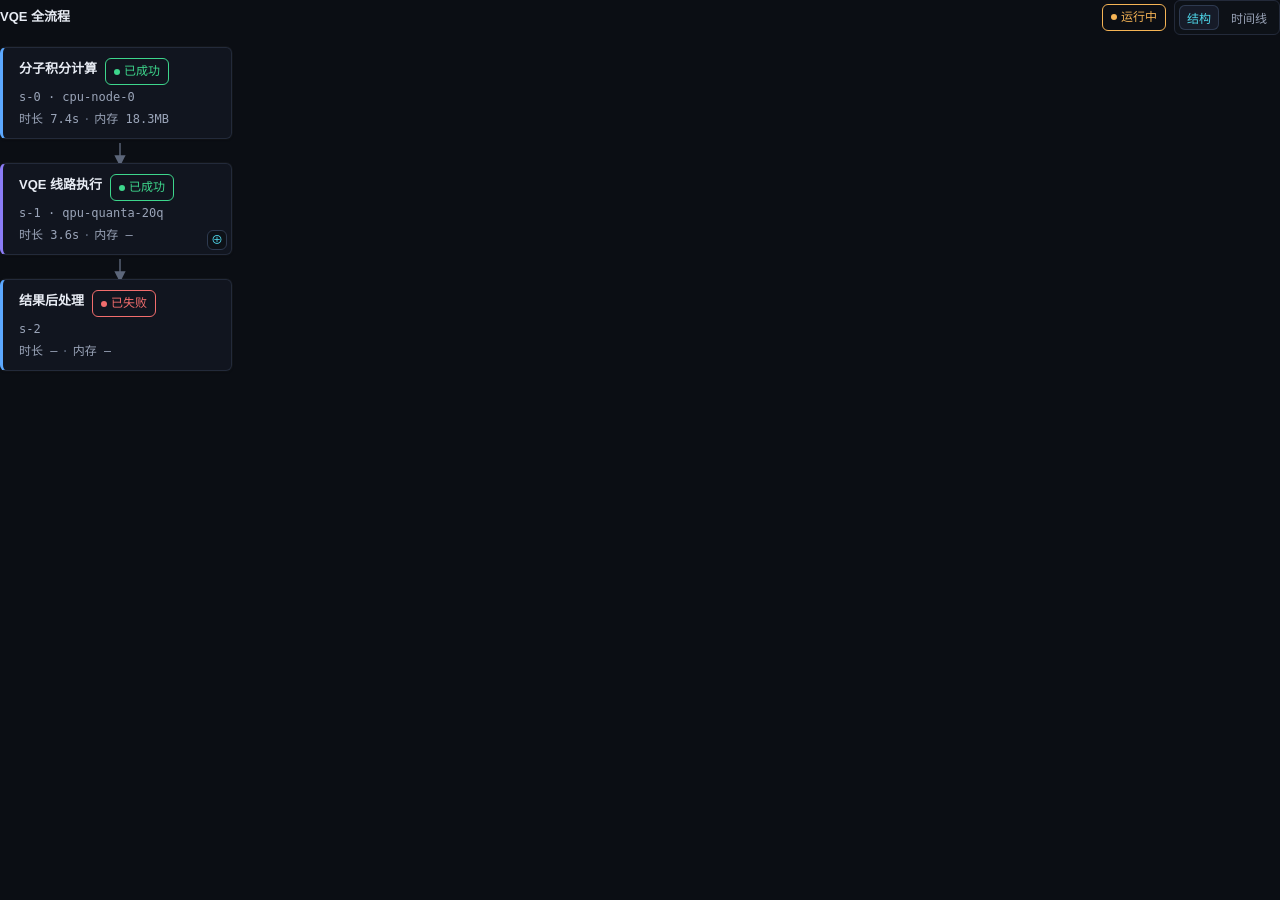
Test: DagView（结构模式，v1.3 几何） › 点击节点 → Drawer：基本字段 + 实测时长/峰值内存 + 子任务链接
Click the button with test id "dag-node-s-1": coordinates (116, 209) [0,163,232,255]
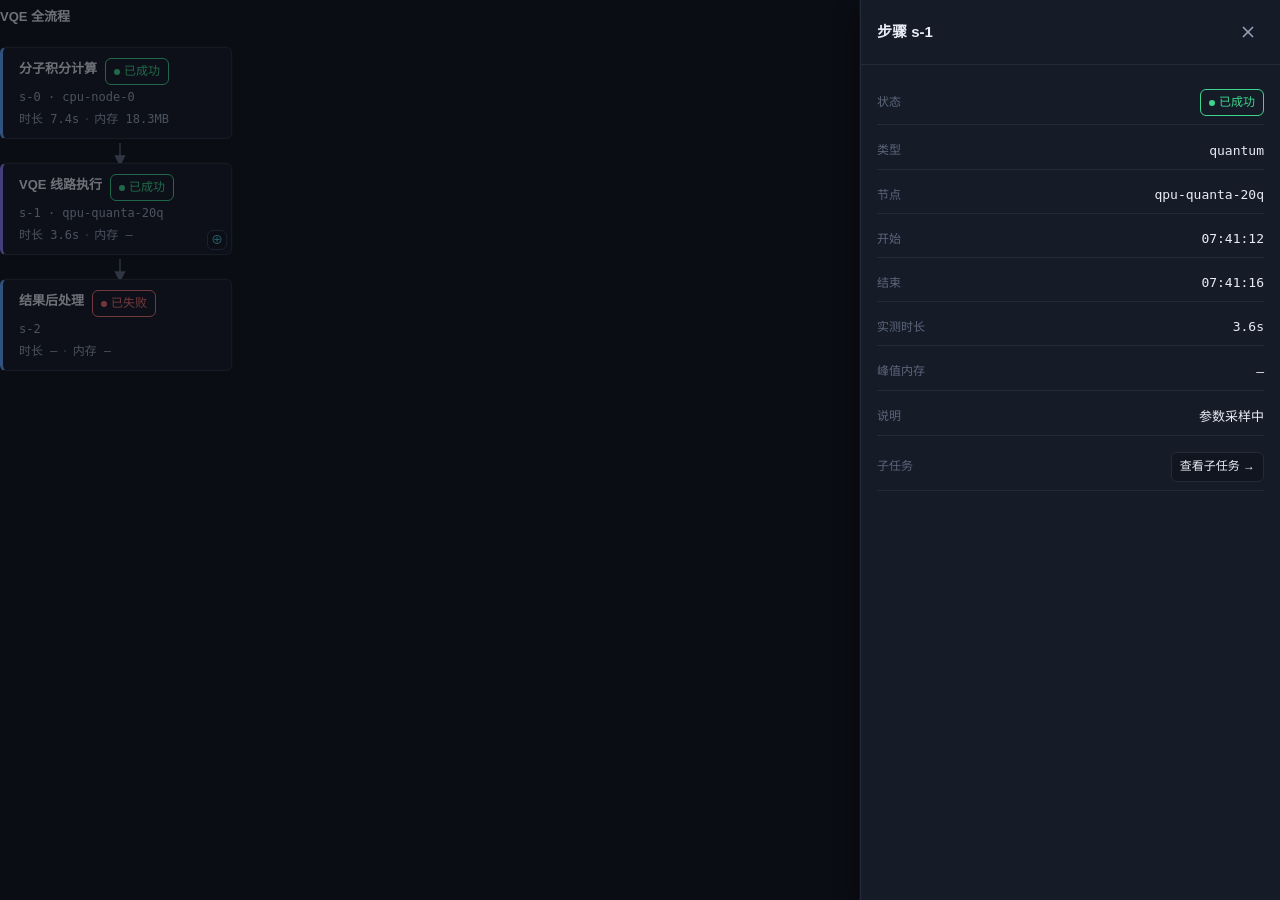
Expected: the dialog with test id "drawer" shows "s-1", [877,23,933,40]
Expected: the dialog with test id "drawer" shows "实测时长", [877,320,925,334]
Expected: the dialog with test id "drawer" shows "3.6s", [1233,319,1264,334]
Click the button with test id "drawer-close": coordinates (1248, 32) [1232,16,1264,48]
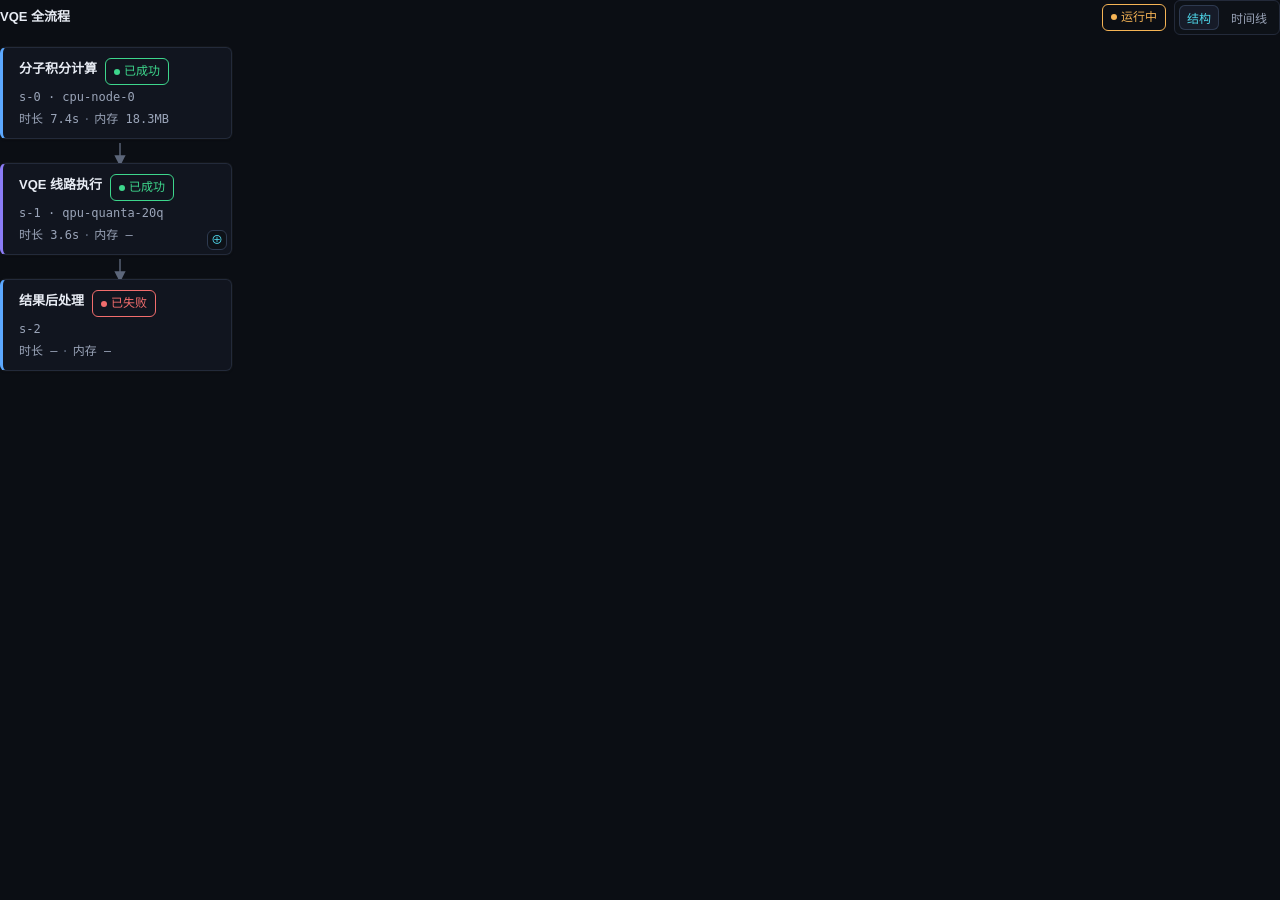
Expected: the dialog with test id "drawer" is gone
